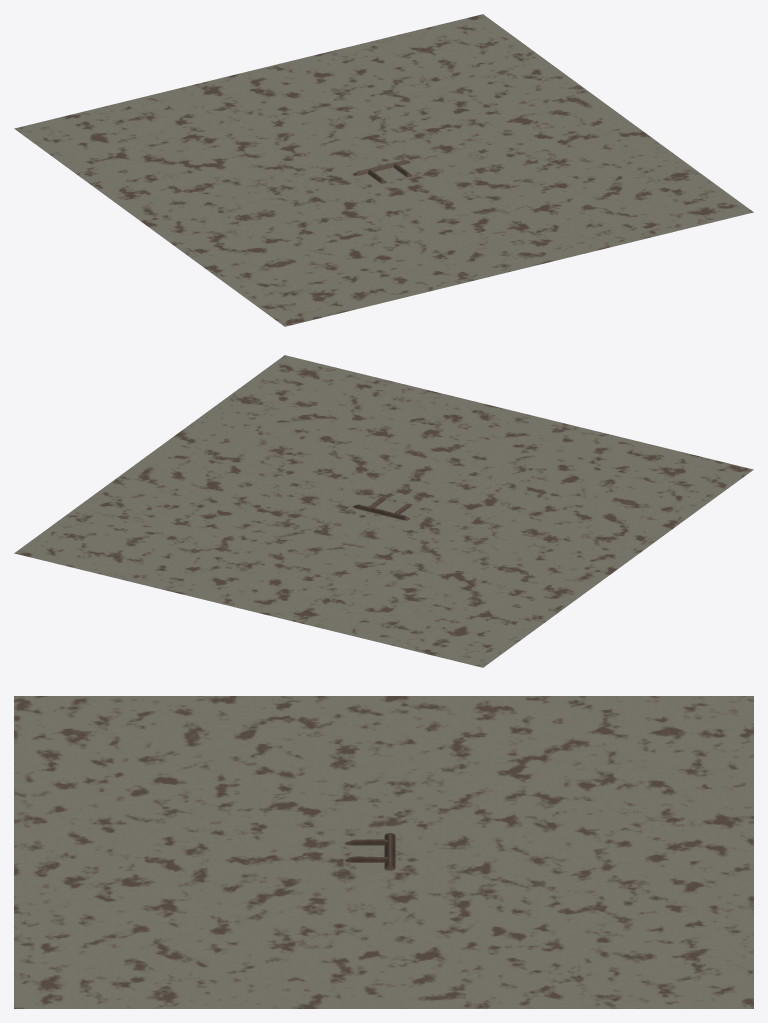
Rendered from env_outdoor_01.glb.
3 views of the same model, one above another, from view 1: azimuth 30°, elevation 25°; view 2: azimuth 150°, elevation 25°; view 3: azimuth 270°, elevation 25° (orthographic). The views are drawn at different scales.
Visible parts, largest first — view 1: ground_mid; view 2: ground_mid; view 3: ground_mid, ground_near_0, ground_near_2.
Boxes of the visible parts, <box> form: ground_mid: <box>14,14,753,326</box>; ground_mid: <box>14,355,753,667</box>; ground_mid: <box>14,696,753,1008</box>; ground_near_0: <box>340,831,371,852</box>; ground_near_2: <box>340,852,371,873</box>.
Size of what is drawn, in the model's own units: 420 by 2.9 by 420.
9 materials, 9 textured.
